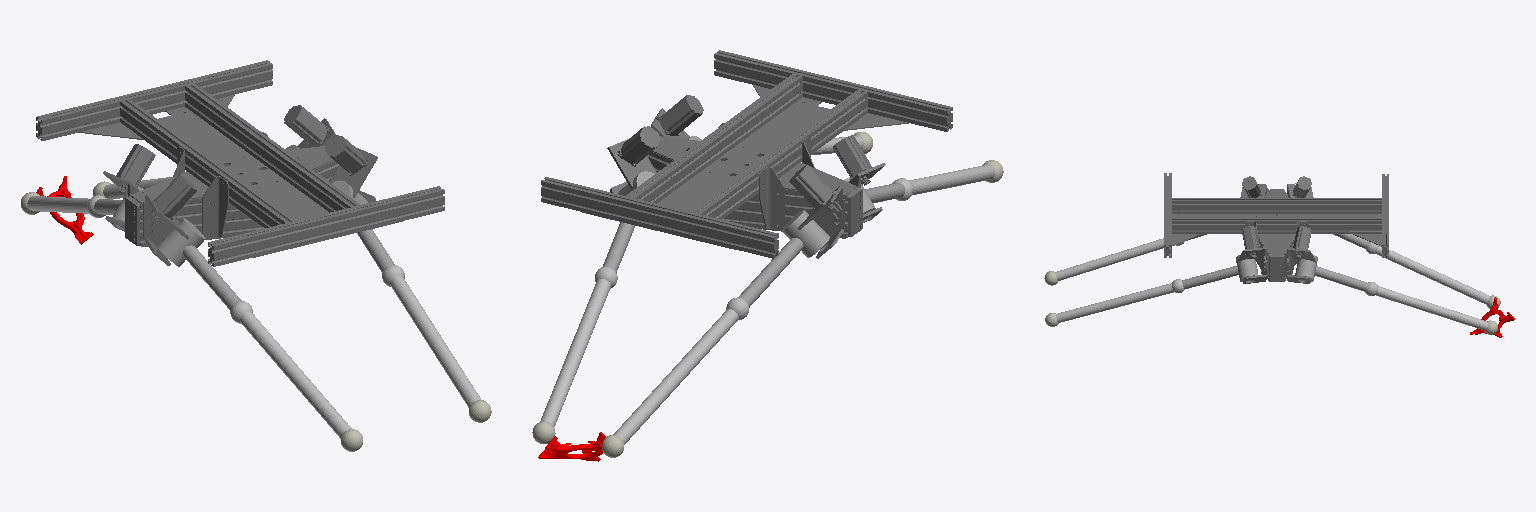
robot.urdf — Ragnar:
<?xml version="1.0" ?>
<!-- =================================================================================== -->
<!-- |    This document was autogenerated by xacro from ragnar.xacro                   | -->
<!-- |    EDITING THIS FILE BY HAND IS NOT RECOMMENDED                                 | -->
<!-- =================================================================================== -->
<robot name="Ragnar" xmlns:xacro="http://ros.org/wiki/xacro">
  <link name="base_link"/>
  <link name="base_link2">
    <inertial>
      <origin rpy="0 0 0" xyz="-4.80572213006859E-06 9.64495107789746E-06 -0.0184680705713898"/>
      <mass value="26.5217124601092"/>
      <inertia ixx="0.936457909215975" ixy="-0.00108838510526368" ixz="1.58187182756307E-06" iyy="1.50216890338436" iyz="1.0107984651762E-05" izz="2.28323593907717"/>
    </inertial>
    <visual>
      <origin rpy="0 0 0" xyz="0 0 0"/>
      <geometry>
        <mesh filename="package://ragnar_support/meshes/base_link.STL"/>
      </geometry>
      <material name="">
        <color rgba="0.5 0.5 0.5 1"/>
      </material>
    </visual>
    <collision>
      <origin rpy="0 0 0" xyz="0 0 0"/>
      <geometry>
        <mesh filename="package://ragnar_support/meshes/base_link.STL"/>
      </geometry>
    </collision>
  </link>
  <joint name="base_rotate" type="fixed">
    <origin rpy="0 0 1.57" xyz="0 0 0.05"/>
    <parent link="base_link"/>
    <child link="base_link2"/>
    <axis xyz="0 0 0"/>
  </joint>
  <link name="upper_arm_1">
    <visual>
      <origin rpy="0 1.57 0" xyz="0 0 0"/>
      <geometry>
        <cylinder length="0.1" radius="0.04"/>
      </geometry>
      <material name="">
        <color rgba="0.65 0.65 0.65 1"/>
      </material>
    </visual>
    <visual>
      <origin rpy="1.57 0 0" xyz="0 0.15 0"/>
      <geometry>
        <cylinder length="0.3" radius="0.02"/>
      </geometry>
      <material name="">
        <color rgba="0.65 0.65 0.65 1"/>
      </material>
    </visual>
    <collision>
      <origin rpy="0 1.57 0" xyz="0 0 0"/>
      <geometry>
        <cylinder length="0.1" radius="0.04"/>
      </geometry>
      <material name="">
        <color rgba="0.65 0.65 0.65 1"/>
      </material>
    </collision>
    <collision>
      <origin rpy="1.57 0 0" xyz="0 0.15 0"/>
      <geometry>
        <cylinder length="0.3" radius="0.02"/>
      </geometry>
      <material name="">
        <color rgba="0.65 0.65 0.65 1"/>
      </material>
    </collision>
  </link>
  <joint name="a1_j1" type="revolute">
    <origin rpy="-0.577 -0.783 -1.311" xyz="0.122 0.249 -0.0877"/>
    <parent link="base_link2"/>
    <child link="upper_arm_1"/>
    <axis xyz="-1.0 0 0"/>
    <limit effort="0" lower="-3.1416" upper="3.1416" velocity="2.618"/>
  </joint>
  <link name="lower_arm_1_pitch"/>
  <link name="lower_arm_1_yaw">
    <visual>
      <origin rpy="0 0 0" xyz="0 0 0"/>
      <geometry>
        <sphere radius="0.03"/>
      </geometry>
      <material name="">
        <color rgba="0.75 0.75 0.75 1"/>
      </material>
    </visual>
    <visual>
      <origin rpy="1.57 0 0" xyz="0 0.275 0"/>
      <geometry>
        <cylinder length="0.55" radius="0.02"/>
      </geometry>
      <material name="">
        <color rgba="0.75 0.75 0.75 1"/>
      </material>
    </visual>
    <visual>
      <origin rpy="0 0 0" xyz="0 0.55 0"/>
      <geometry>
        <sphere radius="0.03"/>
      </geometry>
      <material name="">
        <color rgba="0.75 0.75 0.7 1"/>
      </material>
    </visual>
    <collision>
      <origin rpy="0 1.57 0" xyz="0 0 0"/>
      <geometry>
        <cylinder length="0.1" radius="0.04"/>
      </geometry>
      <material name="">
        <color rgba="0.75 0.75 0.75 1"/>
      </material>
    </collision>
    <collision>
      <origin rpy="1.57 0 0" xyz="0 0.275 0"/>
      <geometry>
        <cylinder length="0.55" radius="0.02"/>
      </geometry>
      <material name="">
        <color rgba="0.75 0.75 0.75 1"/>
      </material>
    </collision>
  </link>
  <joint name="a1_j2_pitch" type="revolute">
    <origin rpy="0 0 0" xyz="0 0.3 0"/>
    <parent link="upper_arm_1"/>
    <child link="lower_arm_1_pitch"/>
    <axis xyz="-1.0 0 0"/>
    <limit effort="0" lower="-3.1416" upper="3.1416" velocity="2.618"/>
  </joint>
  <joint name="a1_j2_yaw" type="revolute">
    <origin rpy="0 0 0" xyz="0 0 0"/>
    <parent link="lower_arm_1_pitch"/>
    <child link="lower_arm_1_yaw"/>
    <axis xyz="0 0 1.0"/>
    <limit effort="0" lower="-3.1416" upper="3.1416" velocity="2.618"/>
  </joint>
  <link name="upper_arm_2">
    <visual>
      <origin rpy="0 1.57 0" xyz="0 0 0"/>
      <geometry>
        <cylinder length="0.1" radius="0.04"/>
      </geometry>
      <material name="">
        <color rgba="0.65 0.65 0.65 1"/>
      </material>
    </visual>
    <visual>
      <origin rpy="1.57 0 0" xyz="0 0.15 0"/>
      <geometry>
        <cylinder length="0.3" radius="0.02"/>
      </geometry>
      <material name="">
        <color rgba="0.65 0.65 0.65 1"/>
      </material>
    </visual>
    <collision>
      <origin rpy="0 1.57 0" xyz="0 0 0"/>
      <geometry>
        <cylinder length="0.1" radius="0.04"/>
      </geometry>
      <material name="">
        <color rgba="0.65 0.65 0.65 1"/>
      </material>
    </collision>
    <collision>
      <origin rpy="1.57 0 0" xyz="0 0.15 0"/>
      <geometry>
        <cylinder length="0.3" radius="0.02"/>
      </geometry>
      <material name="">
        <color rgba="0.65 0.65 0.65 1"/>
      </material>
    </collision>
  </link>
  <joint name="a2_j1" type="revolute">
    <origin rpy="-2.698 -0.788 -1.834" xyz="-0.122 0.249 -0.0877"/>
    <parent link="base_link2"/>
    <child link="upper_arm_2"/>
    <axis xyz="-1.0 0 0"/>
    <limit effort="0" lower="-3.1416" upper="3.1416" velocity="2.618"/>
  </joint>
  <link name="lower_arm_2_pitch"/>
  <link name="lower_arm_2_yaw">
    <visual>
      <origin rpy="0 0 0" xyz="0 0 0"/>
      <geometry>
        <sphere radius="0.03"/>
      </geometry>
      <material name="">
        <color rgba="0.75 0.75 0.75 1"/>
      </material>
    </visual>
    <visual>
      <origin rpy="1.57 0 0" xyz="0 0.275 0"/>
      <geometry>
        <cylinder length="0.55" radius="0.02"/>
      </geometry>
      <material name="">
        <color rgba="0.75 0.75 0.75 1"/>
      </material>
    </visual>
    <visual>
      <origin rpy="0 0 0" xyz="0 0.55 0"/>
      <geometry>
        <sphere radius="0.03"/>
      </geometry>
      <material name="">
        <color rgba="0.75 0.75 0.7 1"/>
      </material>
    </visual>
    <collision>
      <origin rpy="0 1.57 0" xyz="0 0 0"/>
      <geometry>
        <cylinder length="0.1" radius="0.04"/>
      </geometry>
      <material name="">
        <color rgba="0.75 0.75 0.75 1"/>
      </material>
    </collision>
    <collision>
      <origin rpy="1.57 0 0" xyz="0 0.275 0"/>
      <geometry>
        <cylinder length="0.55" radius="0.02"/>
      </geometry>
      <material name="">
        <color rgba="0.75 0.75 0.75 1"/>
      </material>
    </collision>
  </link>
  <joint name="a2_j2_pitch" type="revolute">
    <origin rpy="0 0 0" xyz="0 0.3 0"/>
    <parent link="upper_arm_2"/>
    <child link="lower_arm_2_pitch"/>
    <axis xyz="-1.0 0 0"/>
    <limit effort="0" lower="-3.1416" upper="3.1416" velocity="2.618"/>
  </joint>
  <joint name="a2_j2_yaw" type="revolute">
    <origin rpy="0 0 0" xyz="0 0 0"/>
    <parent link="lower_arm_2_pitch"/>
    <child link="lower_arm_2_yaw"/>
    <axis xyz="0 0 1.0"/>
    <limit effort="0" lower="-3.1416" upper="3.1416" velocity="2.618"/>
  </joint>
  <link name="upper_arm_3">
    <visual>
      <origin rpy="0 1.57 0" xyz="0 0 0"/>
      <geometry>
        <cylinder length="0.1" radius="0.04"/>
      </geometry>
      <material name="">
        <color rgba="0.65 0.65 0.65 1"/>
      </material>
    </visual>
    <visual>
      <origin rpy="1.57 0 0" xyz="0 0.15 0"/>
      <geometry>
        <cylinder length="0.3" radius="0.02"/>
      </geometry>
      <material name="">
        <color rgba="0.65 0.65 0.65 1"/>
      </material>
    </visual>
    <collision>
      <origin rpy="0 1.57 0" xyz="0 0 0"/>
      <geometry>
        <cylinder length="0.1" radius="0.04"/>
      </geometry>
      <material name="">
        <color rgba="0.65 0.65 0.65 1"/>
      </material>
    </collision>
    <collision>
      <origin rpy="1.57 0 0" xyz="0 0.15 0"/>
      <geometry>
        <cylinder length="0.3" radius="0.02"/>
      </geometry>
      <material name="">
        <color rgba="0.65 0.65 0.65 1"/>
      </material>
    </collision>
  </link>
  <joint name="a3_j1" type="revolute">
    <origin rpy="-0.456 -0.783 1.831" xyz="-0.122 -0.249 -0.0877"/>
    <parent link="base_link2"/>
    <child link="upper_arm_3"/>
    <axis xyz="-1.0 0 0"/>
    <limit effort="0" lower="-3.1416" upper="3.1416" velocity="2.618"/>
  </joint>
  <link name="lower_arm_3_pitch"/>
  <link name="lower_arm_3_yaw">
    <visual>
      <origin rpy="0 0 0" xyz="0 0 0"/>
      <geometry>
        <sphere radius="0.03"/>
      </geometry>
      <material name="">
        <color rgba="0.75 0.75 0.75 1"/>
      </material>
    </visual>
    <visual>
      <origin rpy="1.57 0 0" xyz="0 0.275 0"/>
      <geometry>
        <cylinder length="0.55" radius="0.02"/>
      </geometry>
      <material name="">
        <color rgba="0.75 0.75 0.75 1"/>
      </material>
    </visual>
    <visual>
      <origin rpy="0 0 0" xyz="0 0.55 0"/>
      <geometry>
        <sphere radius="0.03"/>
      </geometry>
      <material name="">
        <color rgba="0.75 0.75 0.7 1"/>
      </material>
    </visual>
    <collision>
      <origin rpy="0 1.57 0" xyz="0 0 0"/>
      <geometry>
        <cylinder length="0.1" radius="0.04"/>
      </geometry>
      <material name="">
        <color rgba="0.75 0.75 0.75 1"/>
      </material>
    </collision>
    <collision>
      <origin rpy="1.57 0 0" xyz="0 0.275 0"/>
      <geometry>
        <cylinder length="0.55" radius="0.02"/>
      </geometry>
      <material name="">
        <color rgba="0.75 0.75 0.75 1"/>
      </material>
    </collision>
  </link>
  <joint name="a3_j2_pitch" type="revolute">
    <origin rpy="0 0 0" xyz="0 0.3 0"/>
    <parent link="upper_arm_3"/>
    <child link="lower_arm_3_pitch"/>
    <axis xyz="-1.0 0 0"/>
    <limit effort="0" lower="-3.1416" upper="3.1416" velocity="2.618"/>
  </joint>
  <joint name="a3_j2_yaw" type="revolute">
    <origin rpy="0 0 0" xyz="0 0 0"/>
    <parent link="lower_arm_3_pitch"/>
    <child link="lower_arm_3_yaw"/>
    <axis xyz="0 0 1.0"/>
    <limit effort="0" lower="-3.1416" upper="3.1416" velocity="2.618"/>
  </joint>
  <link name="upper_arm_4">
    <visual>
      <origin rpy="0 1.57 0" xyz="0 0 0"/>
      <geometry>
        <cylinder length="0.1" radius="0.04"/>
      </geometry>
      <material name="">
        <color rgba="0.65 0.65 0.65 1"/>
      </material>
    </visual>
    <visual>
      <origin rpy="1.57 0 0" xyz="0 0.15 0"/>
      <geometry>
        <cylinder length="0.3" radius="0.02"/>
      </geometry>
      <material name="">
        <color rgba="0.65 0.65 0.65 1"/>
      </material>
    </visual>
    <collision>
      <origin rpy="0 1.57 0" xyz="0 0 0"/>
      <geometry>
        <cylinder length="0.1" radius="0.04"/>
      </geometry>
      <material name="">
        <color rgba="0.65 0.65 0.65 1"/>
      </material>
    </collision>
    <collision>
      <origin rpy="1.57 0 0" xyz="0 0.15 0"/>
      <geometry>
        <cylinder length="0.3" radius="0.02"/>
      </geometry>
      <material name="">
        <color rgba="0.65 0.65 0.65 1"/>
      </material>
    </collision>
  </link>
  <joint name="a4_j1" type="revolute">
    <origin rpy="-2.531 -0.788 1.307" xyz="0.122 -0.249 -0.0877"/>
    <parent link="base_link2"/>
    <child link="upper_arm_4"/>
    <axis xyz="-1.0 0 0"/>
    <limit effort="0" lower="-3.1416" upper="3.1416" velocity="2.618"/>
  </joint>
  <link name="lower_arm_4_pitch"/>
  <link name="lower_arm_4_yaw">
    <visual>
      <origin rpy="0 0 0" xyz="0 0 0"/>
      <geometry>
        <sphere radius="0.03"/>
      </geometry>
      <material name="">
        <color rgba="0.75 0.75 0.75 1"/>
      </material>
    </visual>
    <visual>
      <origin rpy="1.57 0 0" xyz="0 0.275 0"/>
      <geometry>
        <cylinder length="0.55" radius="0.02"/>
      </geometry>
      <material name="">
        <color rgba="0.75 0.75 0.75 1"/>
      </material>
    </visual>
    <visual>
      <origin rpy="0 0 0" xyz="0 0.55 0"/>
      <geometry>
        <sphere radius="0.03"/>
      </geometry>
      <material name="">
        <color rgba="0.75 0.75 0.7 1"/>
      </material>
    </visual>
    <collision>
      <origin rpy="0 1.57 0" xyz="0 0 0"/>
      <geometry>
        <cylinder length="0.1" radius="0.04"/>
      </geometry>
      <material name="">
        <color rgba="0.75 0.75 0.75 1"/>
      </material>
    </collision>
    <collision>
      <origin rpy="1.57 0 0" xyz="0 0.275 0"/>
      <geometry>
        <cylinder length="0.55" radius="0.02"/>
      </geometry>
      <material name="">
        <color rgba="0.75 0.75 0.75 1"/>
      </material>
    </collision>
  </link>
  <joint name="a4_j2_pitch" type="revolute">
    <origin rpy="0 0 0" xyz="0 0.3 0"/>
    <parent link="upper_arm_4"/>
    <child link="lower_arm_4_pitch"/>
    <axis xyz="-1.0 0 0"/>
    <limit effort="0" lower="-3.1416" upper="3.1416" velocity="2.618"/>
  </joint>
  <joint name="a4_j2_yaw" type="revolute">
    <origin rpy="0 0 0" xyz="0 0 0"/>
    <parent link="lower_arm_4_pitch"/>
    <child link="lower_arm_4_yaw"/>
    <axis xyz="0 0 1.0"/>
    <limit effort="0" lower="-3.1416" upper="3.1416" velocity="2.618"/>
  </joint>
  <link name="ee_link_r">
    
  </link>
  <joint name="ee_joint_roll" type="revolute">
    <origin rpy="0 0 0" xyz="0 0.550 0"/>
    <parent link="lower_arm_1_yaw"/>
    <child link="ee_link_r"/>
    <axis xyz="0 0 1"/>
    <limit effort="0" lower="-3.1416" upper="3.1416" velocity="2.618"/>
  </joint>
  <link name="ee_link_p">
    
  </link>
  <joint name="ee_joint_pitch" type="revolute">
    <origin rpy="0 0 0" xyz="0 0 0"/>
    <parent link="ee_link_r"/>
    <child link="ee_link_p"/>
    <axis xyz="1 0 0"/>
    <limit effort="0" lower="-3.1416" upper="3.1416" velocity="2.618"/>
  </joint>
  <link name="ee_link_y">
    <visual>
      <origin rpy="0 0 0" xyz="0 0 0"/>
      <geometry>
        <mesh filename="package://ragnar_support/meshes/ee_link_y.STL"/>
      </geometry>
      <material name="">
        <color rgba="1 0 0 1"/>
      </material>
    </visual>
    <collision>
      <origin rpy="0 0 0" xyz="0 0 0"/>
      <geometry>
        <mesh filename="package://ragnar_support/meshes/ee_link_y.STL"/>
      </geometry>
    </collision>
  </link>
  <joint name="ee_joint_yaw" type="revolute">
    <origin rpy="5.55111512312578E-17 -2.77555756156289E-17 0" xyz="0 0 0"/>
    <parent link="ee_link_p"/>
    <child link="ee_link_y"/>
    <axis xyz="0 -1 0"/>
    <limit effort="0" lower="-3.1416" upper="3.1416" velocity="2.618"/>
  </joint>
</robot>

--- Facts derived from the render (not from the file) ---
3 views of the same robot in one strip: view 1: azimuth 30°, elevation 25°; view 2: azimuth 150°, elevation 25°; view 3: azimuth 270°, elevation 25° (orthographic).
Model Ragnar with 17 links and 16 joints (15 revolute, 1 fixed), rooted at base_link, posed all joints at 0.
Visible links, largest first — view 1: base_link2, lower_arm_2_yaw, lower_arm_3_yaw, upper_arm_2, lower_arm_1_yaw, upper_arm_3, ee_link_y, lower_arm_4_yaw, upper_arm_1; view 2: base_link2, lower_arm_1_yaw, lower_arm_4_yaw, upper_arm_1, lower_arm_2_yaw, upper_arm_4, ee_link_y, upper_arm_2; view 3: base_link2, lower_arm_3_yaw, lower_arm_4_yaw, lower_arm_1_yaw, lower_arm_2_yaw, upper_arm_3, upper_arm_4.
Link boxes in pixels (x1,y1,x2,y2): base_link2: (36, 60, 444, 266); lower_arm_2_yaw: (230, 301, 362, 451); lower_arm_3_yaw: (382, 265, 491, 422); upper_arm_2: (158, 218, 241, 309); lower_arm_1_yaw: (21, 192, 106, 217); upper_arm_3: (332, 180, 394, 272); ee_link_y: (36, 176, 93, 244); lower_arm_4_yaw: (93, 177, 171, 199); upper_arm_1: (94, 186, 143, 222); base_link2: (541, 50, 952, 258); lower_arm_1_yaw: (601, 297, 748, 457); lower_arm_4_yaw: (532, 266, 617, 443); upper_arm_1: (739, 210, 829, 307); lower_arm_2_yaw: (892, 160, 1003, 200); upper_arm_4: (603, 171, 654, 272); ee_link_y: (538, 432, 605, 461); upper_arm_2: (844, 177, 904, 213); base_link2: (1164, 173, 1388, 283); lower_arm_3_yaw: (1045, 279, 1184, 326); lower_arm_4_yaw: (1365, 282, 1497, 334); lower_arm_1_yaw: (1366, 242, 1500, 308); lower_arm_2_yaw: (1044, 238, 1184, 285); upper_arm_3: (1182, 255, 1257, 288); upper_arm_4: (1295, 255, 1368, 291).
Size in the robot's own frame: 0.7007 by 1.95 by 0.6213 metres.
2 mesh visuals loaded from 2 distinct referenced files (2 binary STL).
